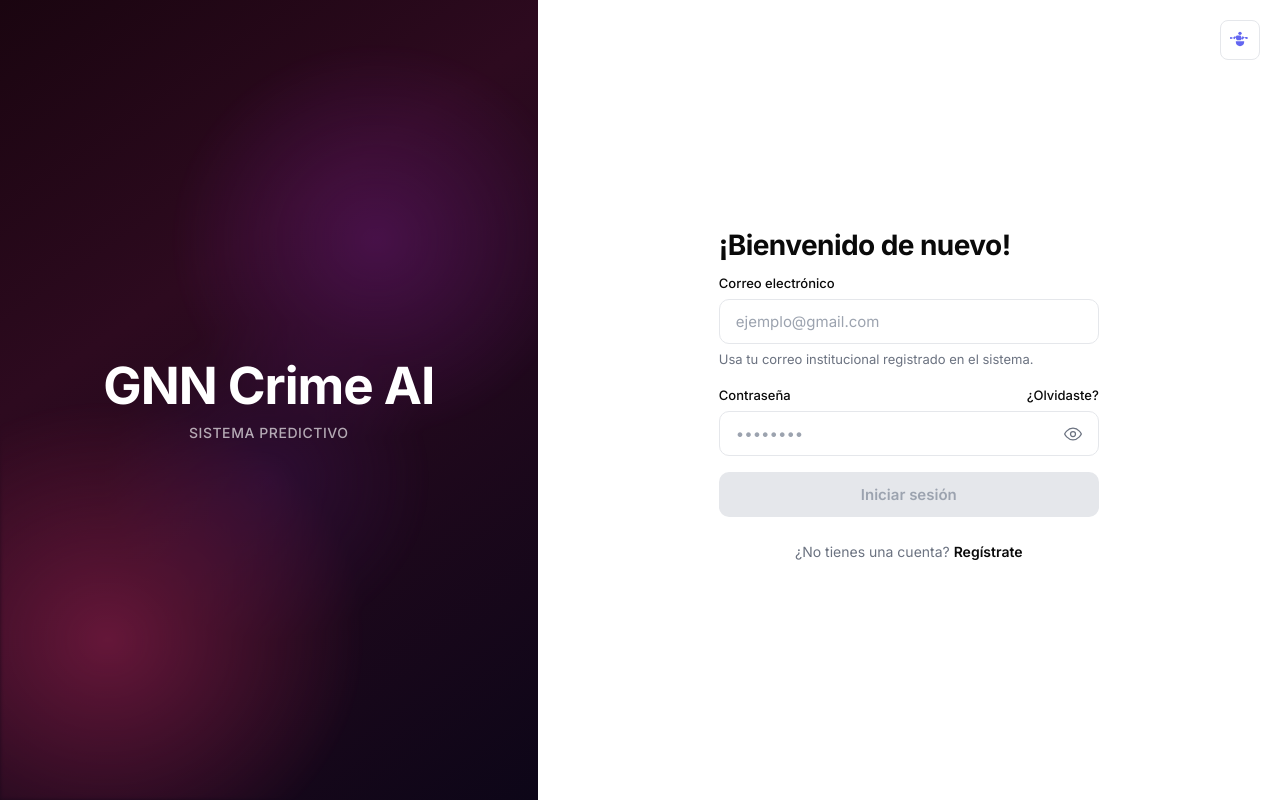
it: LoginPage › muestra error cuando falla el login
Type "admin@pnp.gob.pe" into the field with test id "login-email-input".
click(909, 322); type("admin@pnp.gob.pe")  # box [719,299,1099,344]
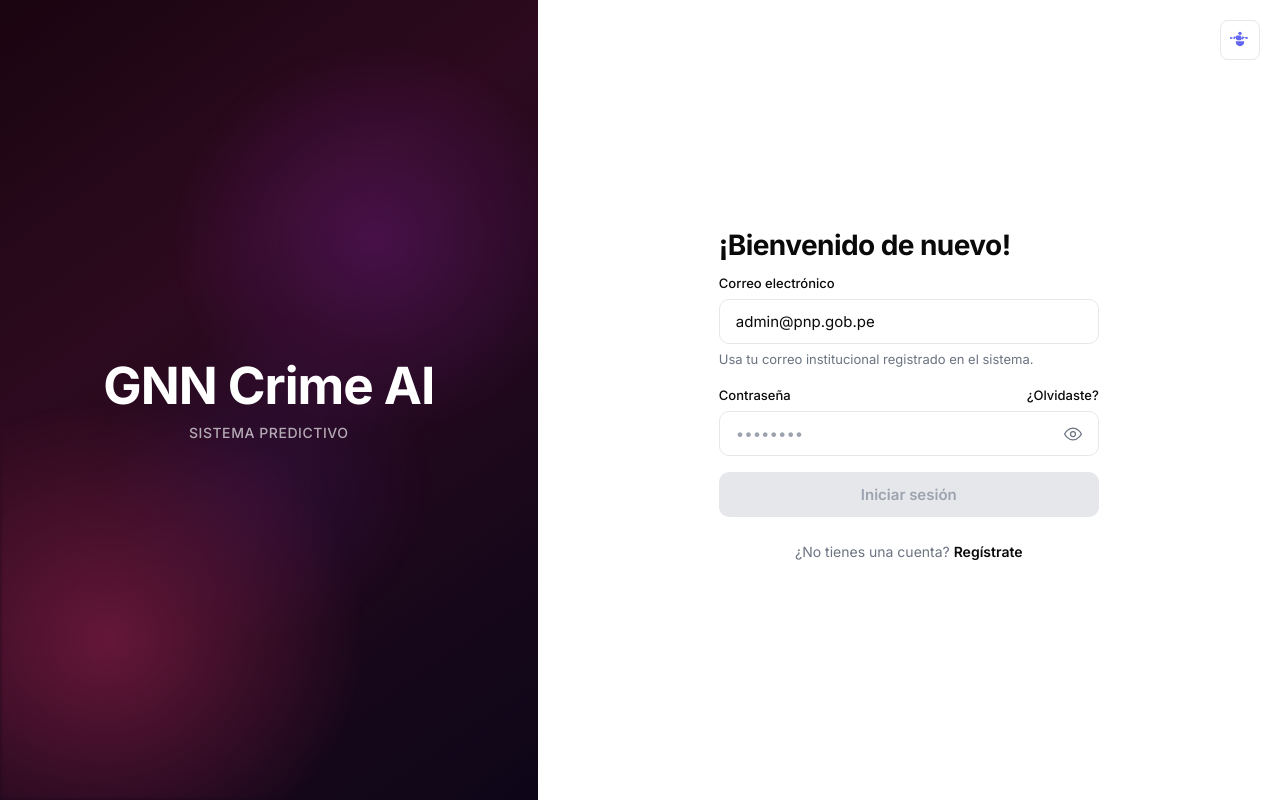
Type "mala-clave" into the password field with test id "login-password-input".
click(909, 434); type("mala-clave")  # box [719,411,1099,456]
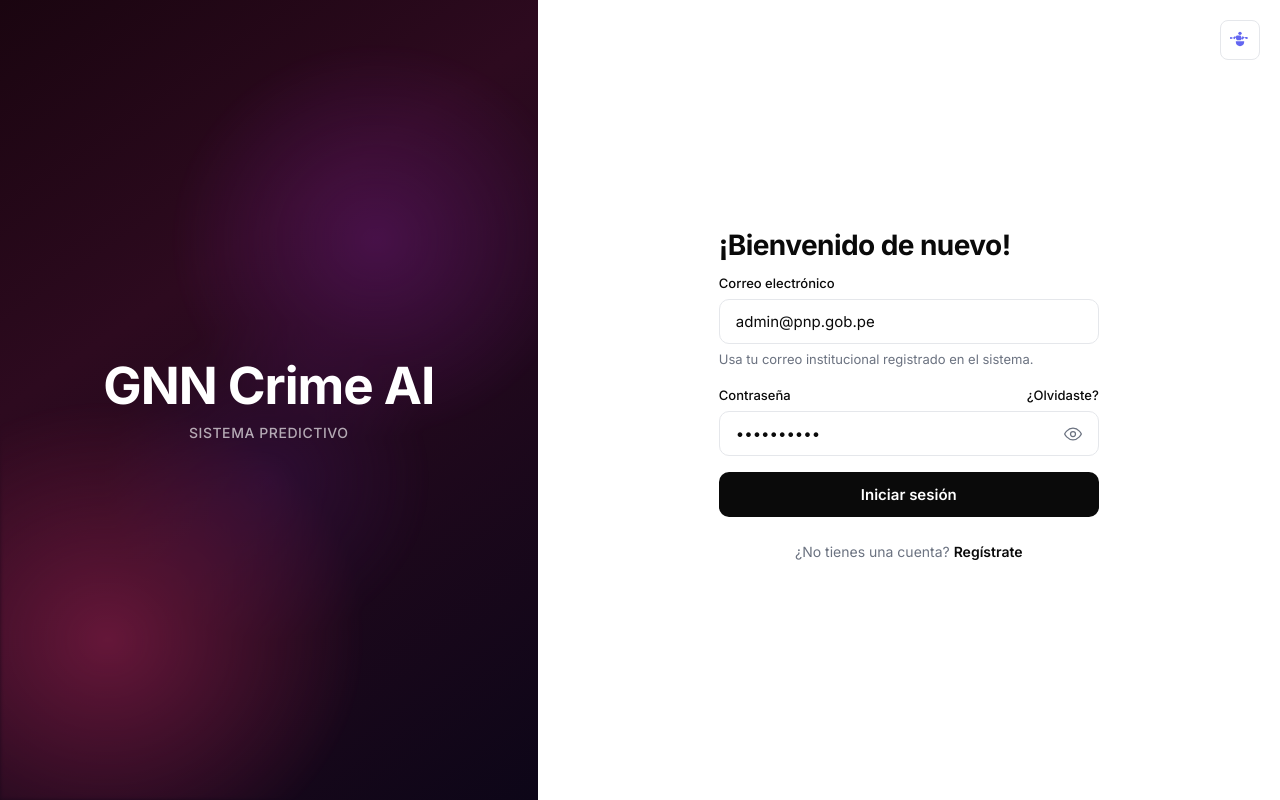
Click the button with test id "login-submit-button".
click(909, 495)  # box [719,472,1099,517]
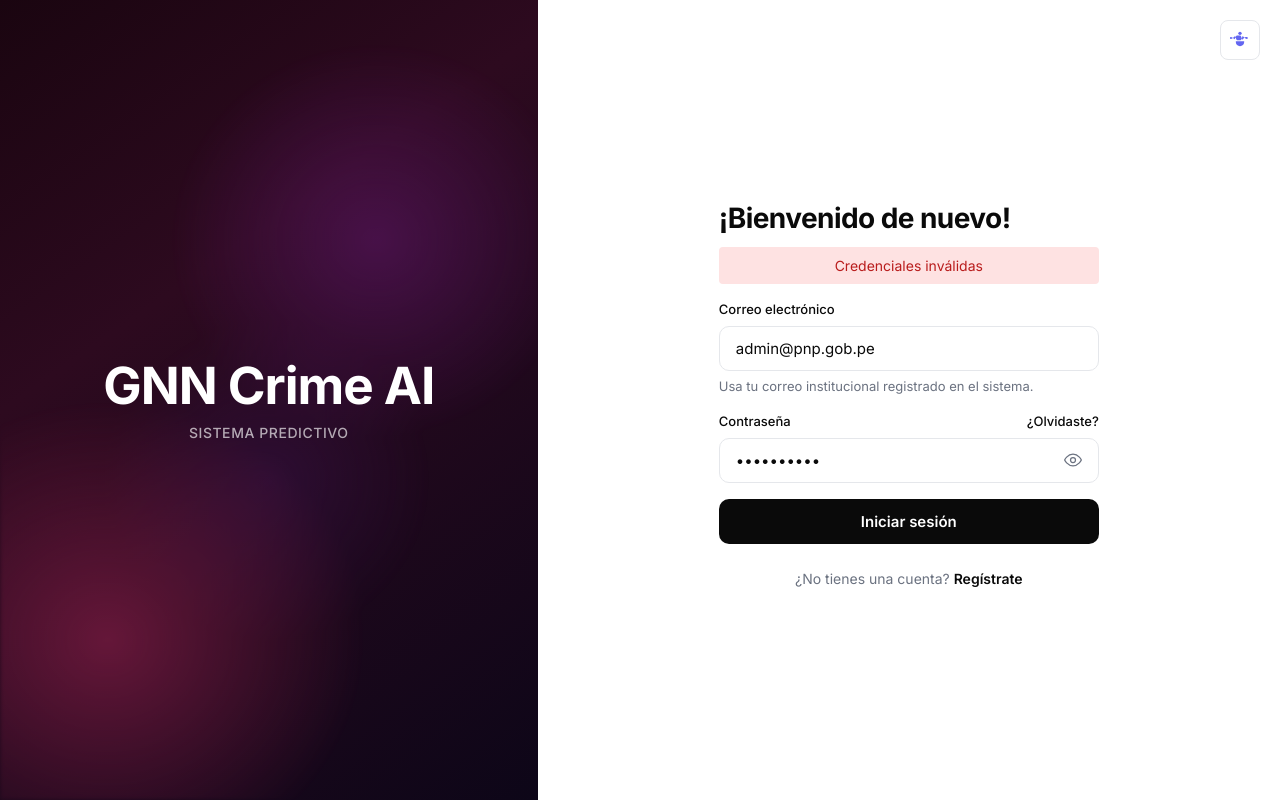
Now the message reads "Credenciales inválidas", box [835,257,983,274]
